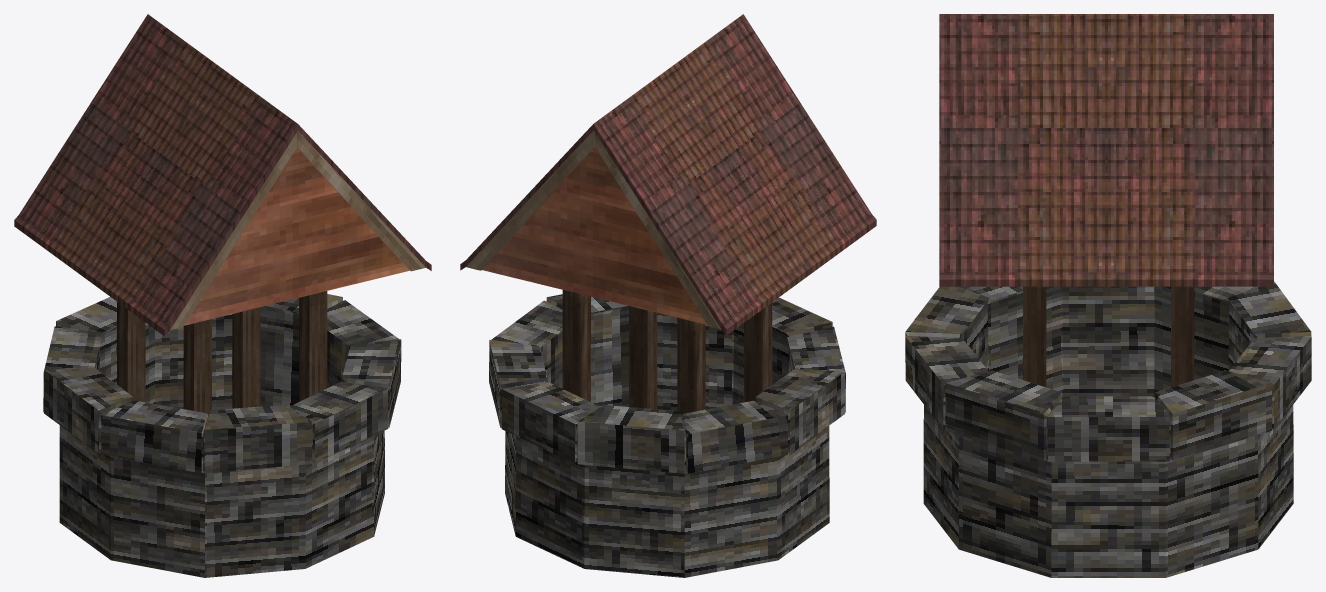
The model's file is Well.fbx.
3 views of the same model, side by side, from view 1: azimuth 30°, elevation 25°; view 2: azimuth 150°, elevation 25°; view 3: azimuth 270°, elevation 25° (orthographic). The views are drawn at different scales.
Visible parts, largest first — view 1: Well; view 2: Well; view 3: Well.
Boxes of the visible parts, box(x1,y1,x2,y2) form: Well: box(14, 14, 431, 577); Well: box(460, 14, 876, 577); Well: box(905, 14, 1311, 577).
Bounding box in the file's own units: 210 × 292 × 220.
